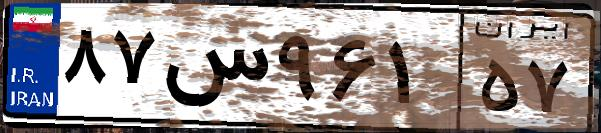1: (385, 28, 445, 110)
5: (475, 38, 525, 113)
6: (330, 28, 385, 110)
7: (525, 38, 570, 115), (110, 28, 158, 98)
8: (57, 26, 110, 100)
9: (270, 28, 330, 110)
س: (158, 20, 270, 120)
